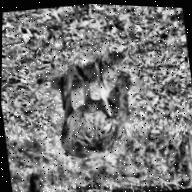boar: (45, 55, 154, 174)
